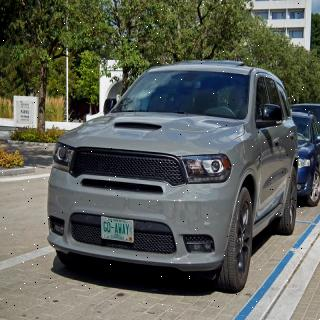license: (102, 217, 135, 244)
